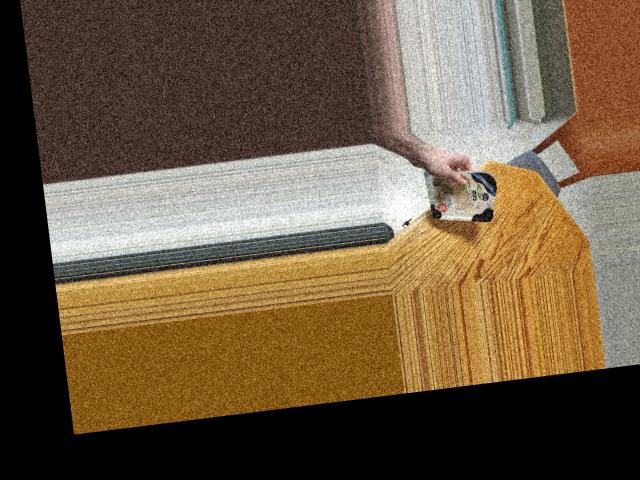cheese: (409, 164, 503, 228)
